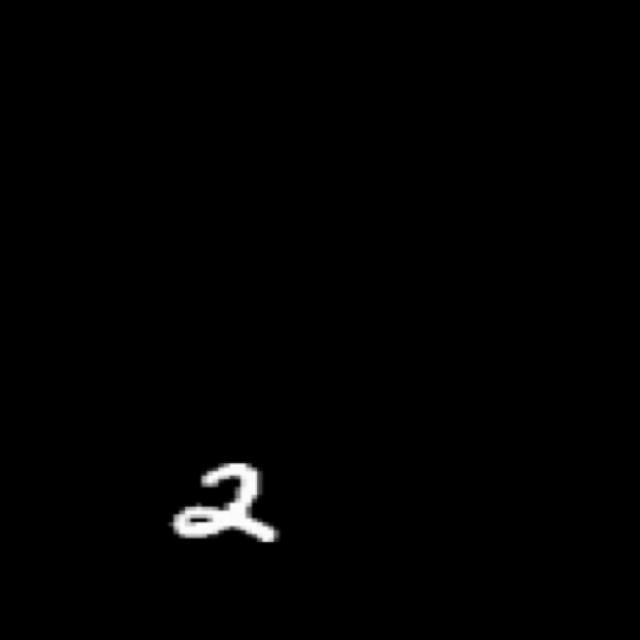two -2-: (162, 455, 290, 548)
